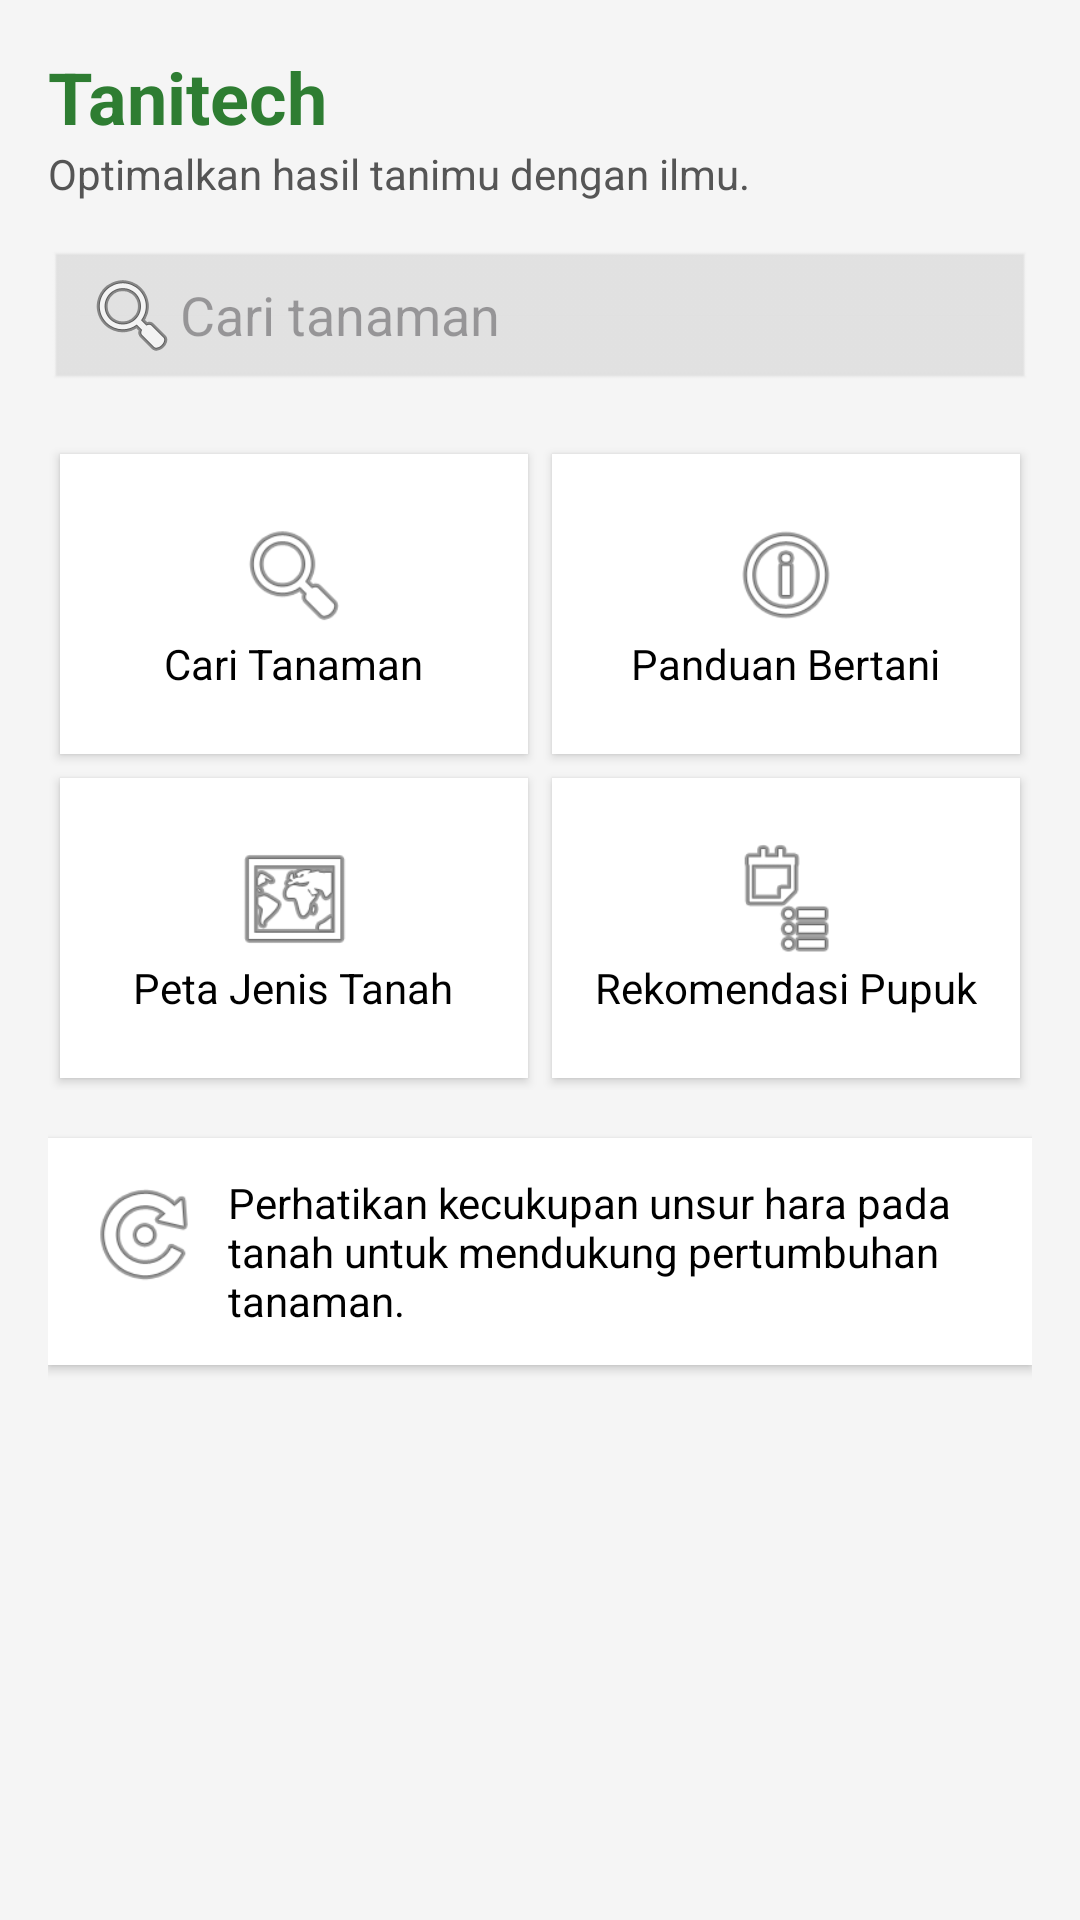

Named icons in this screenshot (1080x1920) and their centers, [x,y]:
agenda: [786,898]
info details: [786,575]
mapmode: [294,899]
rotate: [144,1235]
search: [293,575]
